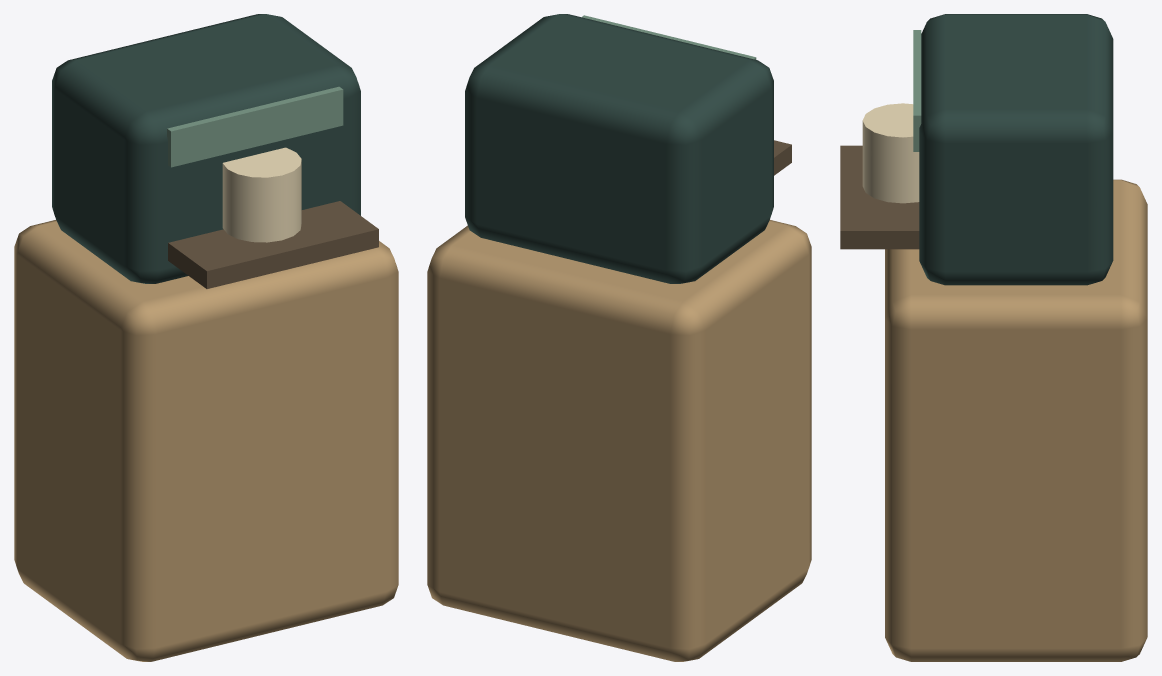
Rendered from coffee.glb.
3 views of the same model, side by side, from view 1: azimuth 30°, elevation 25°; view 2: azimuth 150°, elevation 25°; view 3: azimuth 270°, elevation 25° (orthographic).
Bounding box in the file's own units: 0.8 × 1.48 × 0.76.
